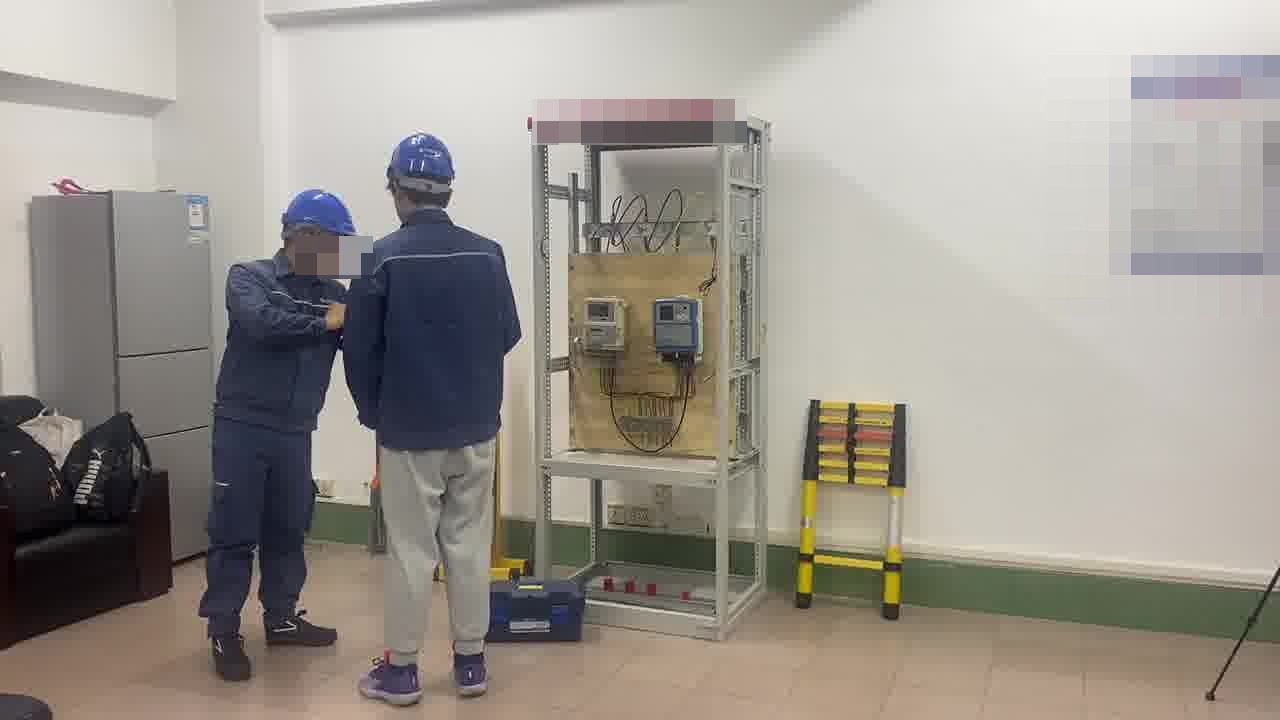downcloth: (363, 434, 504, 663)
downsuit: (204, 440, 315, 632)
halt: (384, 131, 459, 218), (279, 189, 356, 273)
hand: (320, 295, 345, 335)
inear: (293, 224, 323, 273)
person: (350, 129, 527, 706), (204, 186, 353, 666)
upsuit: (349, 216, 518, 444), (218, 261, 334, 427)
